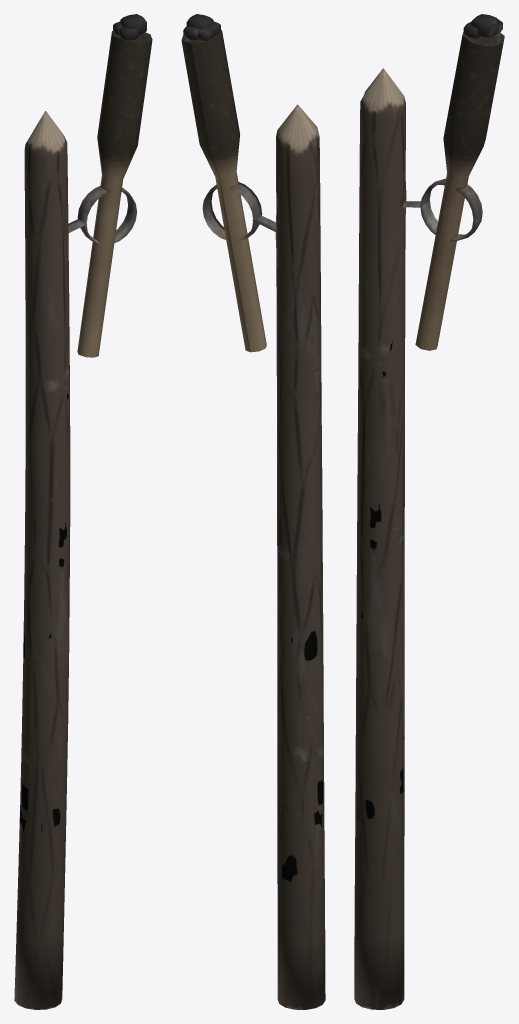
Rendered from SM_Camp_TorchPost.fbx.
The picture shows the model from 3 angles, left to right: view 1: azimuth 30°, elevation 25°; view 2: azimuth 150°, elevation 25°; view 3: azimuth 330°, elevation 25°; orthographic projection. The views are drawn at different scales.
Parts seen in each view (by area): view 1: SM_Camp_TorchPost; view 2: SM_Camp_TorchPost; view 3: SM_Camp_TorchPost.
Part boxes in pixels (box(x1,y1,x2,y2)): SM_Camp_TorchPost: box(14, 14, 152, 1009); SM_Camp_TorchPost: box(181, 14, 325, 1009); SM_Camp_TorchPost: box(354, 14, 504, 1009).
Bounding box in the file's own units: 29.5 × 10.61 × 199.
